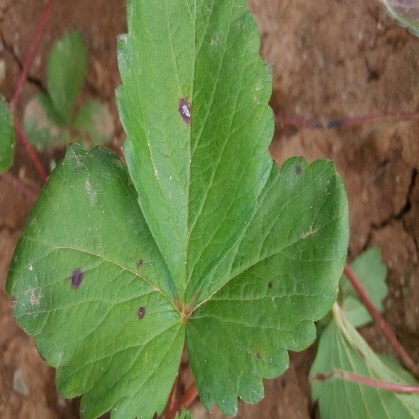Leaf_Spot: (183, 0, 415, 319), (65, 135, 351, 323), (69, 1, 235, 318), (143, 122, 305, 418)
